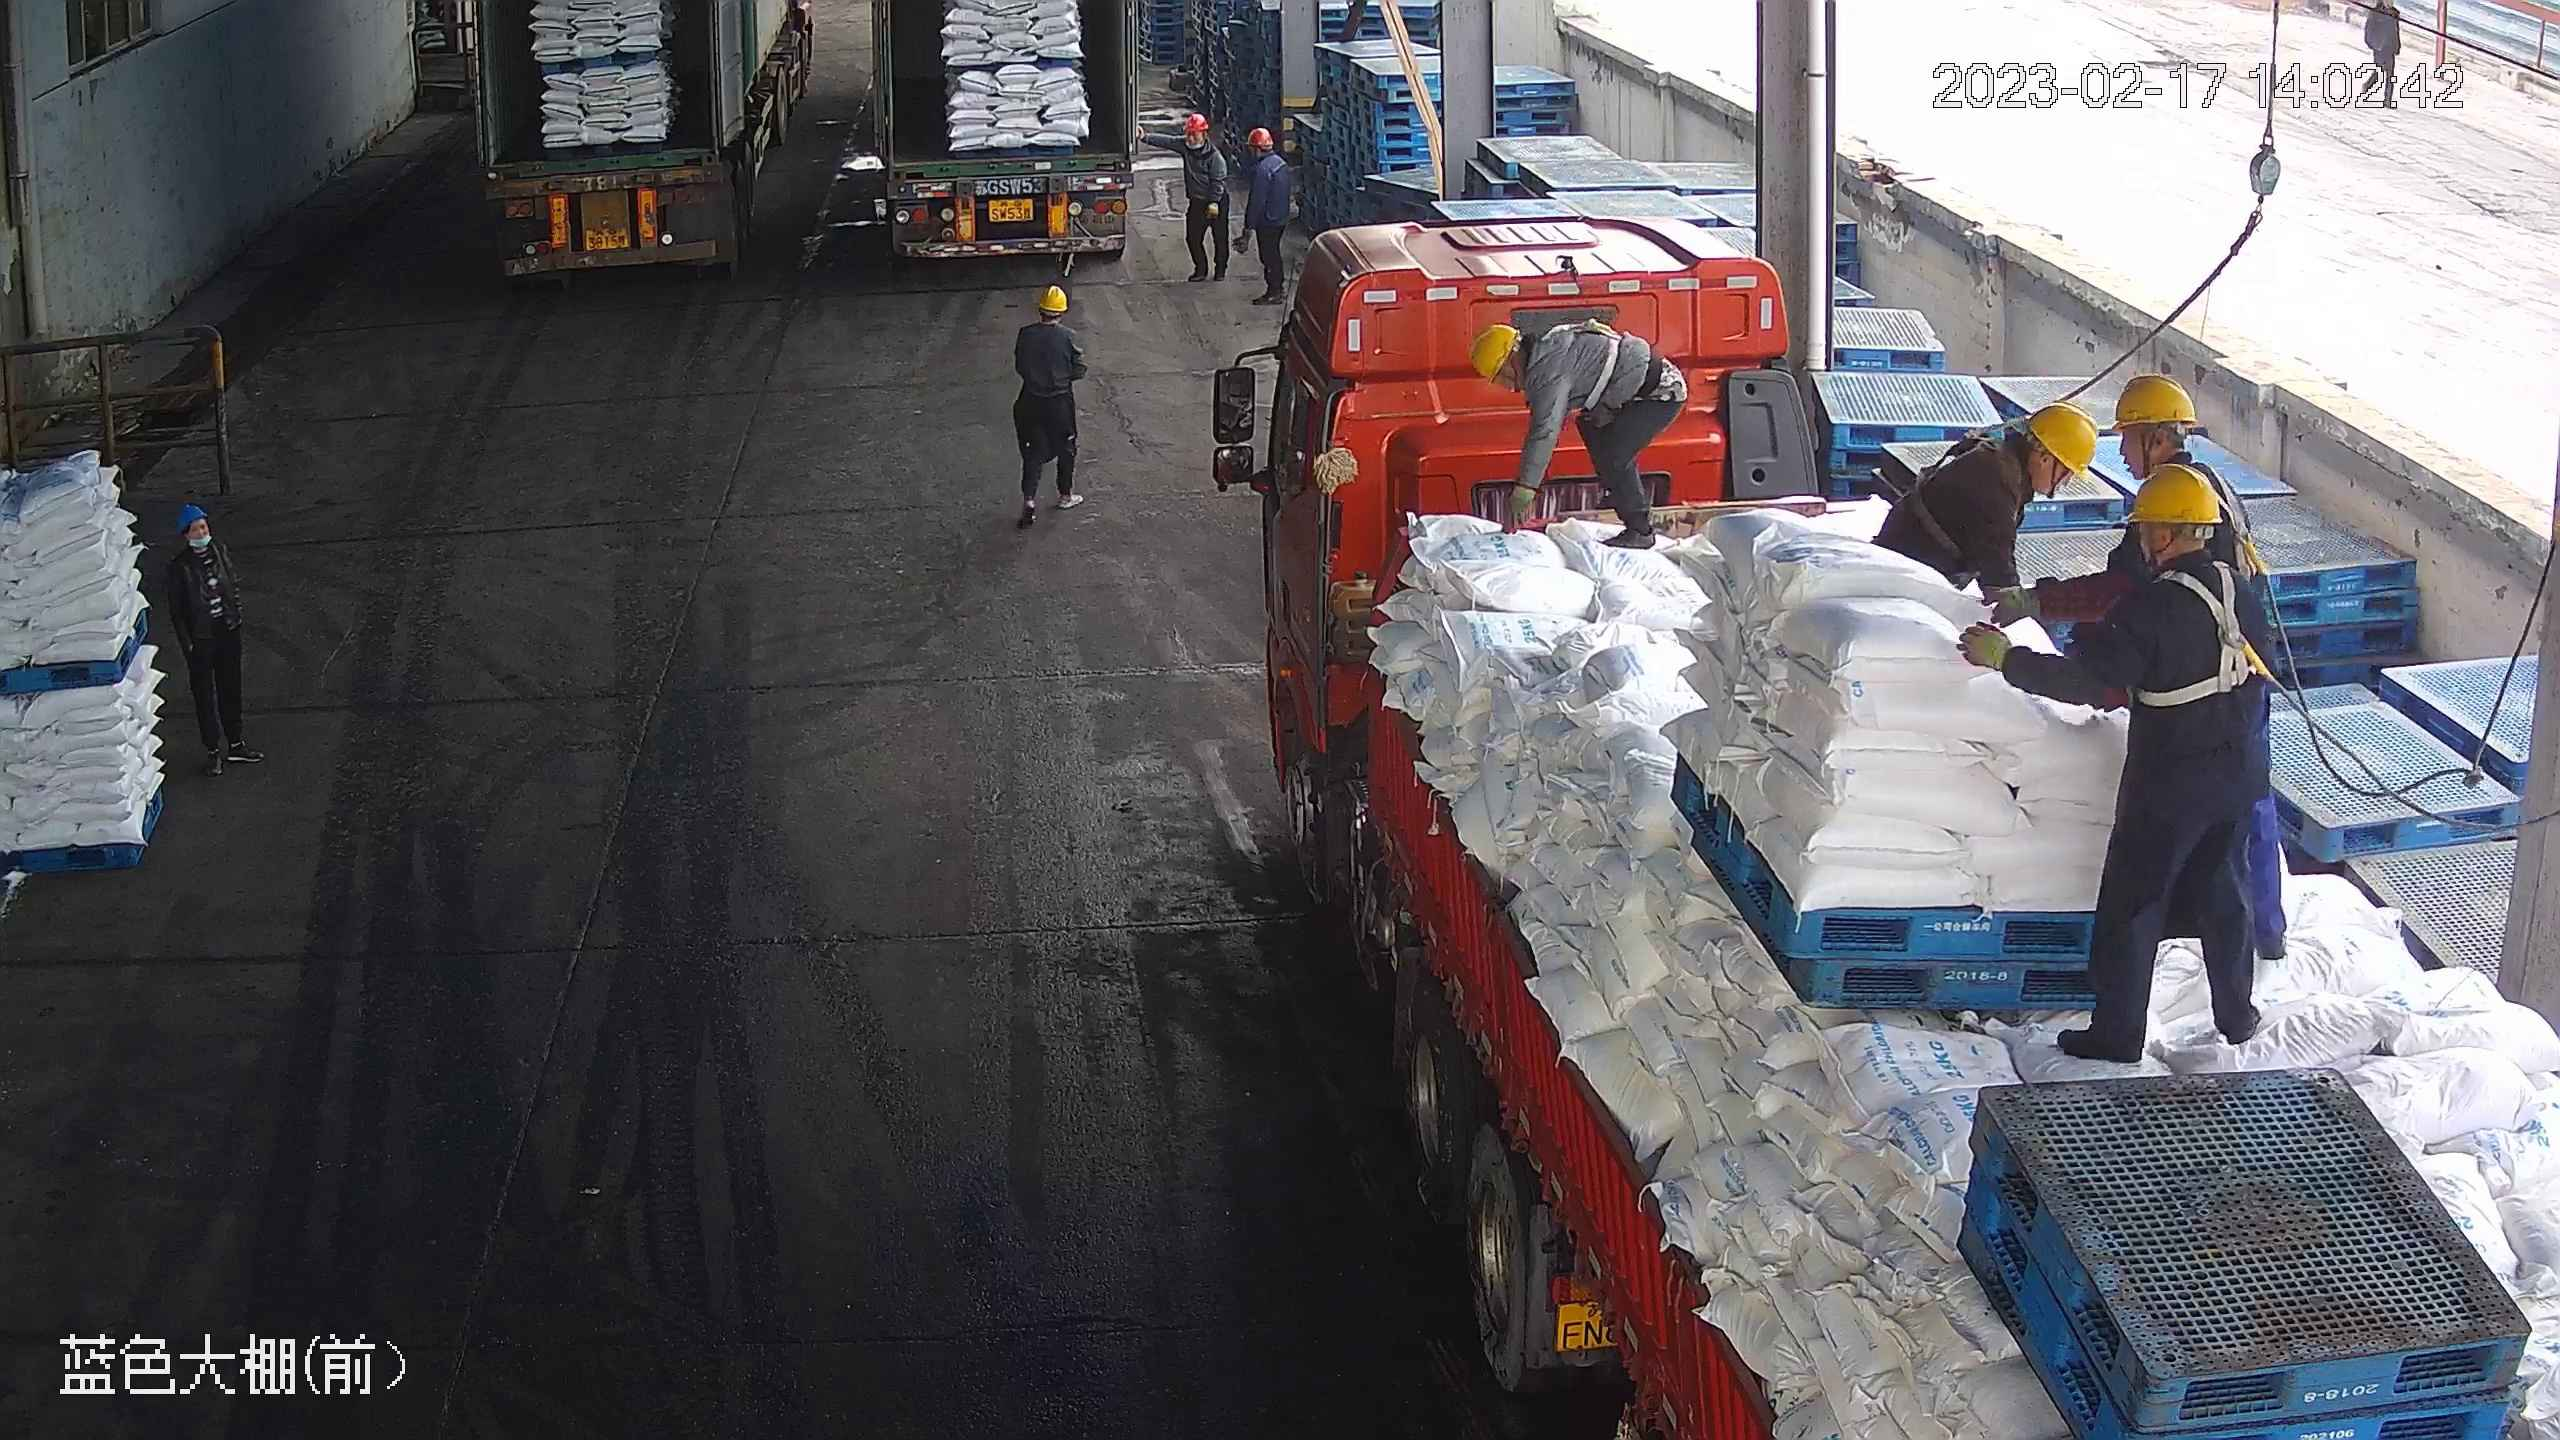belt: (2133, 556, 2278, 704), (1922, 433, 2029, 531), (1533, 313, 1627, 403)
head: (2097, 462, 2258, 640), (1009, 281, 1088, 524), (1953, 398, 2100, 518), (1469, 319, 1585, 407), (1013, 284, 1083, 369), (173, 509, 226, 588), (1238, 124, 1291, 186), (1174, 111, 1223, 170)
helmet: (2123, 463, 2225, 527), (2026, 399, 2099, 480), (2109, 373, 2200, 429), (1469, 322, 1517, 389), (1174, 111, 1223, 169), (1035, 284, 1069, 311), (179, 508, 208, 532), (1244, 123, 1271, 148), (1180, 111, 1207, 134)
people: (1958, 461, 2284, 1067), (1870, 399, 2101, 635), (1467, 317, 1689, 548), (176, 505, 264, 771), (1009, 283, 1089, 527), (1170, 109, 1229, 285), (1239, 121, 1291, 302)
truck: (1246, 184, 2560, 1438), (477, 1, 823, 281), (851, 6, 1148, 273)
